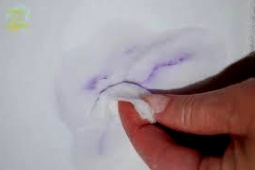ink: (152, 55, 185, 75), (82, 73, 104, 91)
